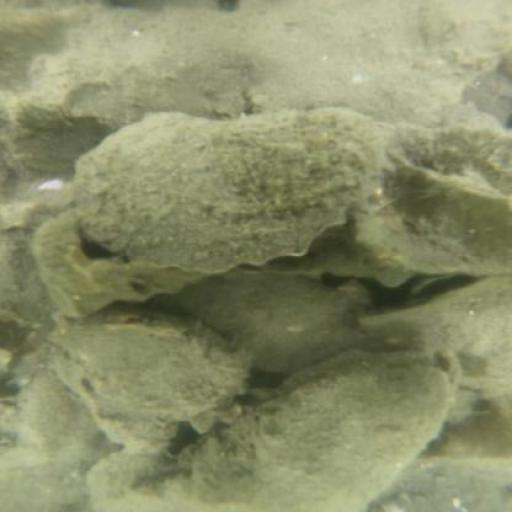Oyster-Closed: (72, 110, 392, 277), (195, 366, 444, 504), (56, 316, 249, 442), (172, 273, 360, 372), (366, 279, 512, 390)
Oyster-Open: (401, 266, 476, 309)
